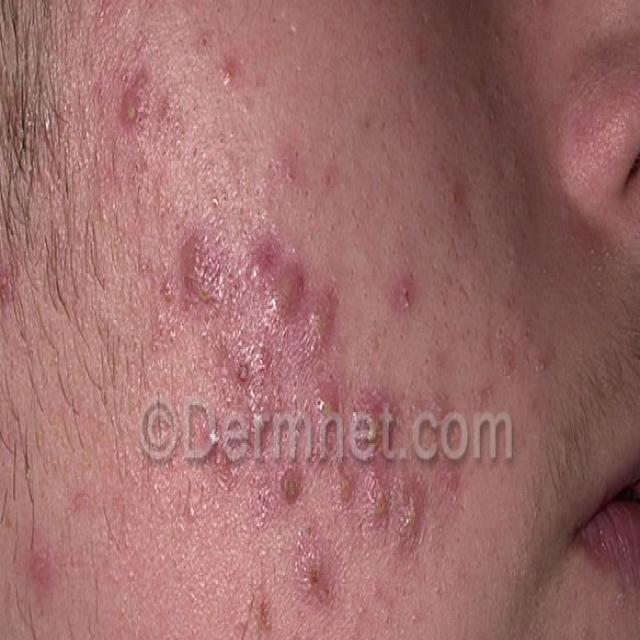Acne: (0, 403, 185, 640), (208, 352, 326, 557), (204, 203, 346, 358), (327, 419, 425, 545), (197, 11, 272, 111), (106, 49, 166, 157), (432, 145, 498, 228), (386, 253, 431, 347), (229, 595, 293, 640)
